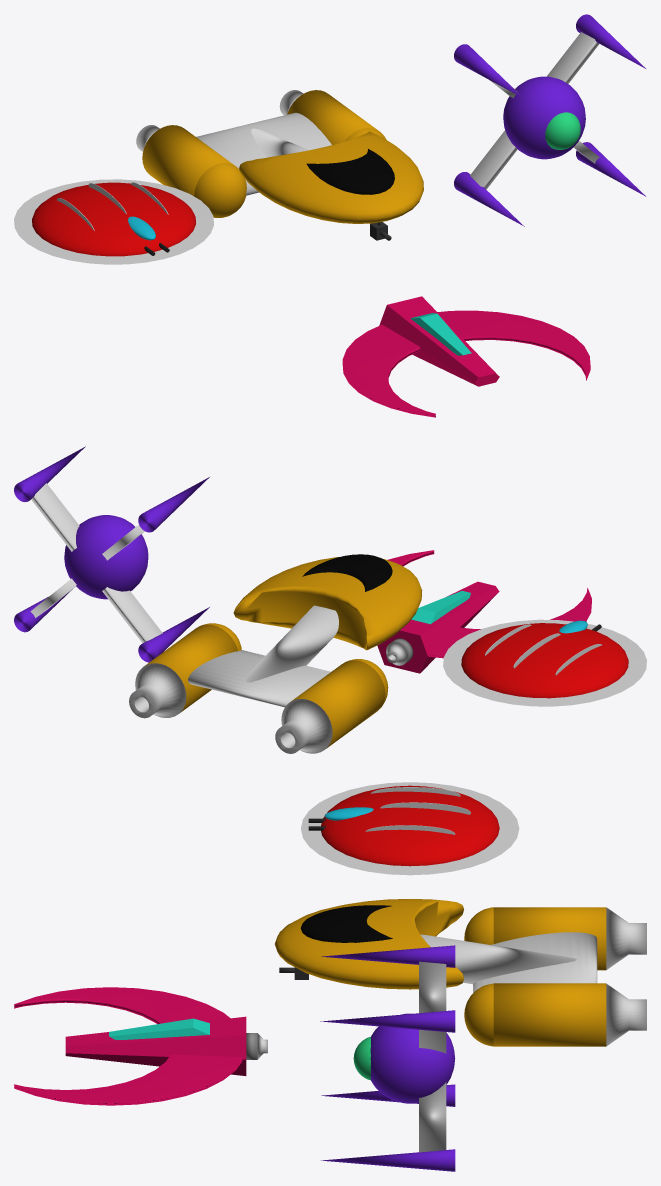
The model's file is FOD3_models.fbx.
3 renders of one model, top to bottom at view 1: azimuth 30°, elevation 25°; view 2: azimuth 150°, elevation 25°; view 3: azimuth 270°, elevation 25°, orthographic. The views are drawn at different scales.
Visible parts, largest first — view 1: Bomber, Ovni, Fuel, Wings.001, Interceptor, Ring, Tubular, Wing, Player, Tubular.001, Cockpit.001, Cockpit.002 (+3 smaller); view 2: Bomber, Ovni, Tubular, Fuel, Reactor, Interceptor, Ring, Tubular.001, Wing, Player, Cockpit.001, Wings.001 (+2 smaller); view 3: Fuel, Ovni, Bomber, Wings.001, Tubular, Wing, Player, Interceptor, Ring, Tubular.001, Reactor, Cockpit.001 (+3 smaller).
Boxes of the visible parts, <box> form: Bomber: <box>239,131,423,223</box>; Ovni: <box>32,182,195,256</box>; Fuel: <box>142,90,386,217</box>; Wings.001: <box>342,310,590,417</box>; Interceptor: <box>503,76,585,159</box>; Ring: <box>14,179,213,264</box>; Tubular: <box>196,112,331,195</box>; Wing: <box>454,14,646,226</box>; Player: <box>379,296,499,386</box>; Tubular.001: <box>470,32,599,189</box>; Cockpit.001: <box>306,149,394,194</box>; Cockpit.002: <box>545,112,580,149</box>; Bomber: <box>233,557,422,650</box>; Ovni: <box>461,623,628,698</box>; Tubular: <box>188,605,338,707</box>; Fuel: <box>145,623,388,748</box>; Reactor: <box>129,663,332,753</box>; Interceptor: <box>64,515,148,599</box>; Ring: <box>443,619,646,706</box>; Tubular.001: <box>30,483,162,643</box>; Wing: <box>14,446,209,662</box>; Player: <box>377,581,499,673</box>; Cockpit.001: <box>302,554,392,591</box>; Wings.001: <box>388,550,591,658</box>; Fuel: <box>464,907,606,1046</box>; Ovni: <box>321,785,499,866</box>; Bomber: <box>274,899,463,989</box>; Wings.001: <box>14,987,242,1105</box>; Tubular: <box>420,932,597,992</box>; Wing: <box>320,945,455,1171</box>; Player: <box>65,1016,246,1075</box>; Interceptor: <box>370,1013,455,1103</box>; Ring: <box>301,782,519,875</box>; Tubular.001: <box>419,961,446,1152</box>; Reactor: <box>606,907,646,1046</box>; Cockpit.001: <box>300,905,392,942</box>.
Size of the model in its own units: 1637 by 495 by 1403.
